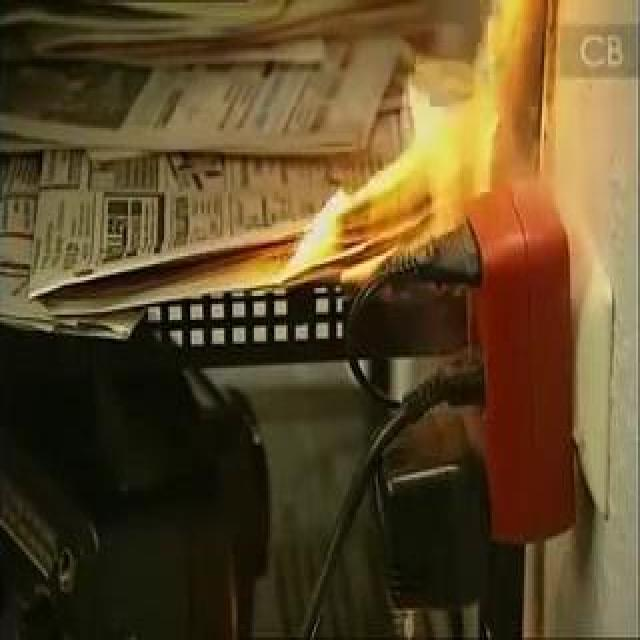Fire: (222, 3, 560, 325)
